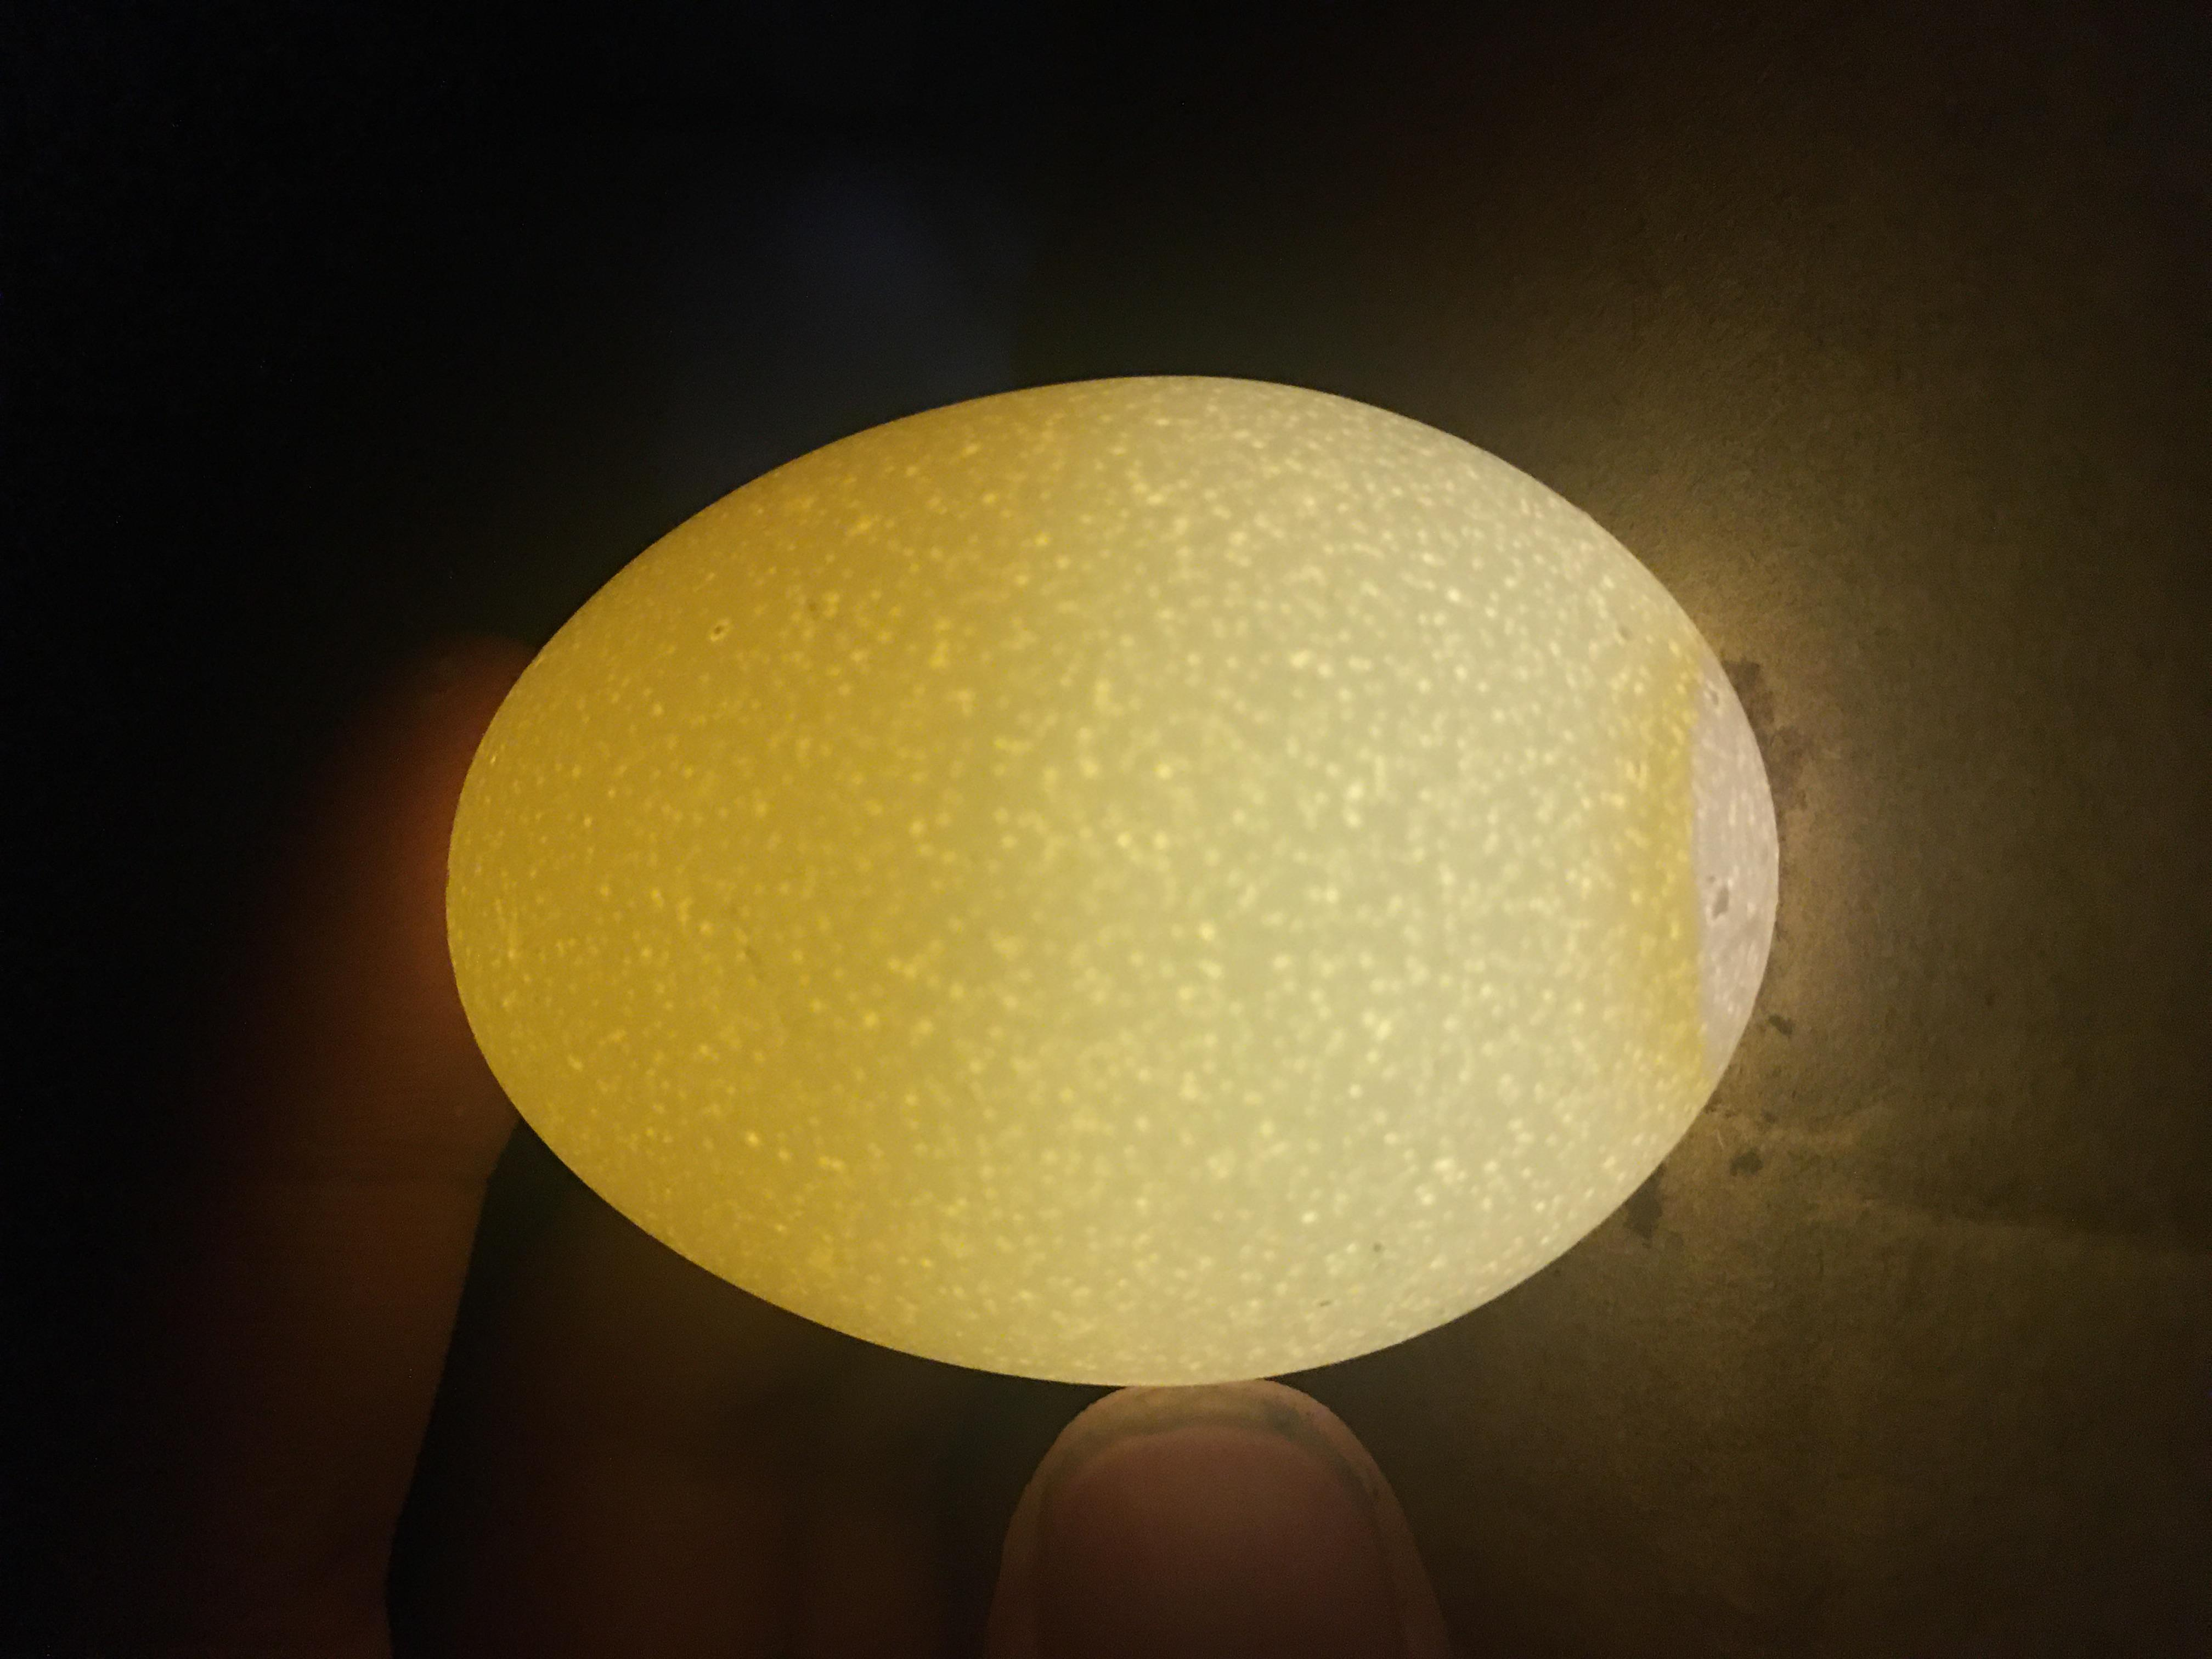AA - Premium: (352, 322, 1726, 1344)
